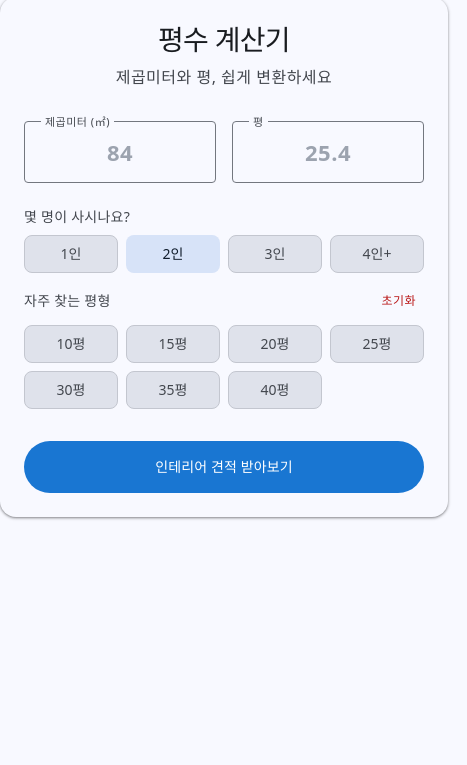
Space Simulator (Calculator) › Insight and Visualization › 59㎡ 입력 시 "25평형" 인사이트 카드를 표시한다
Type "59" into the field with placeholder "84" at (120, 152), box [41,122,199,182]
(page scrolled)
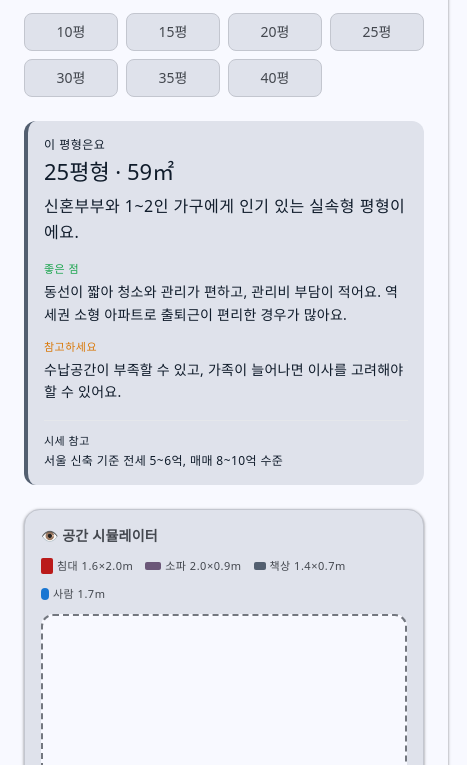
Now the text "신혼부부와 1~2인 가구에게 인기 있는 실속형 평형이에요." is shown, box [44,193,408,245]
Now the text "수납공간이 부족할 수 있고, 가족이 늘어나면 이사를 고려해야 할 수 있어요." is shown, box [44,358,408,404]
